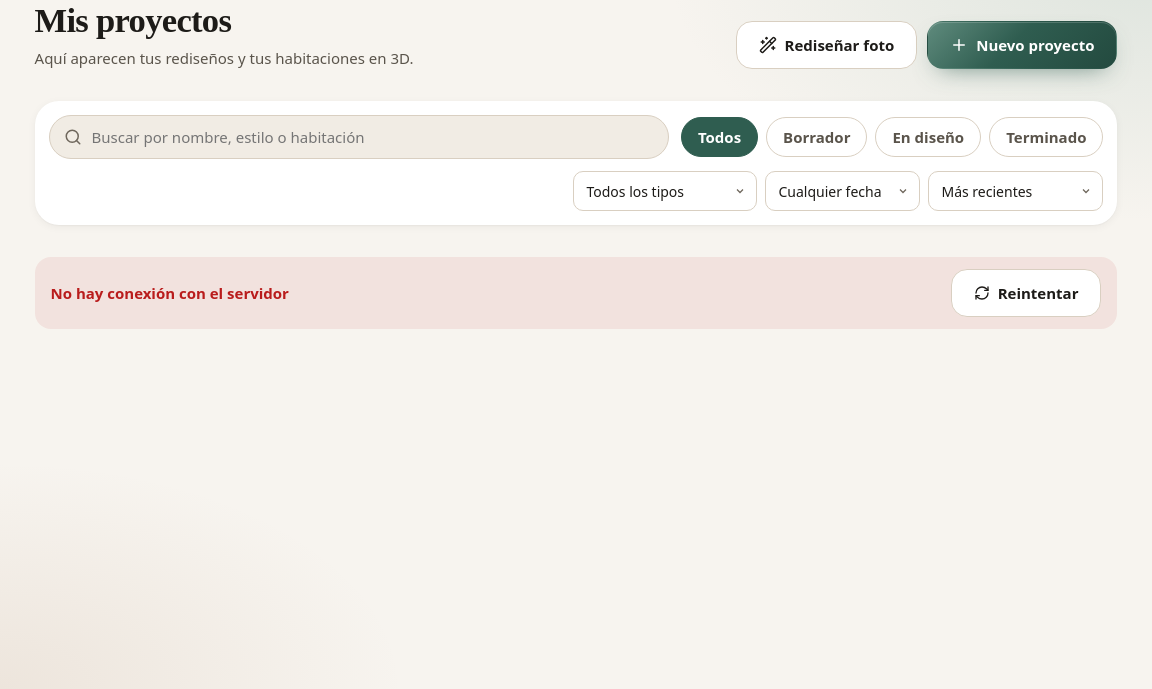
Test: Projects page › shows the error and lets the user retry
expect the message shows "No hay conexión con el servidor": met, box [50,283,289,303]
Click the button "Reintentar": (1026, 293) [951,269,1101,317]
(page scrolled)
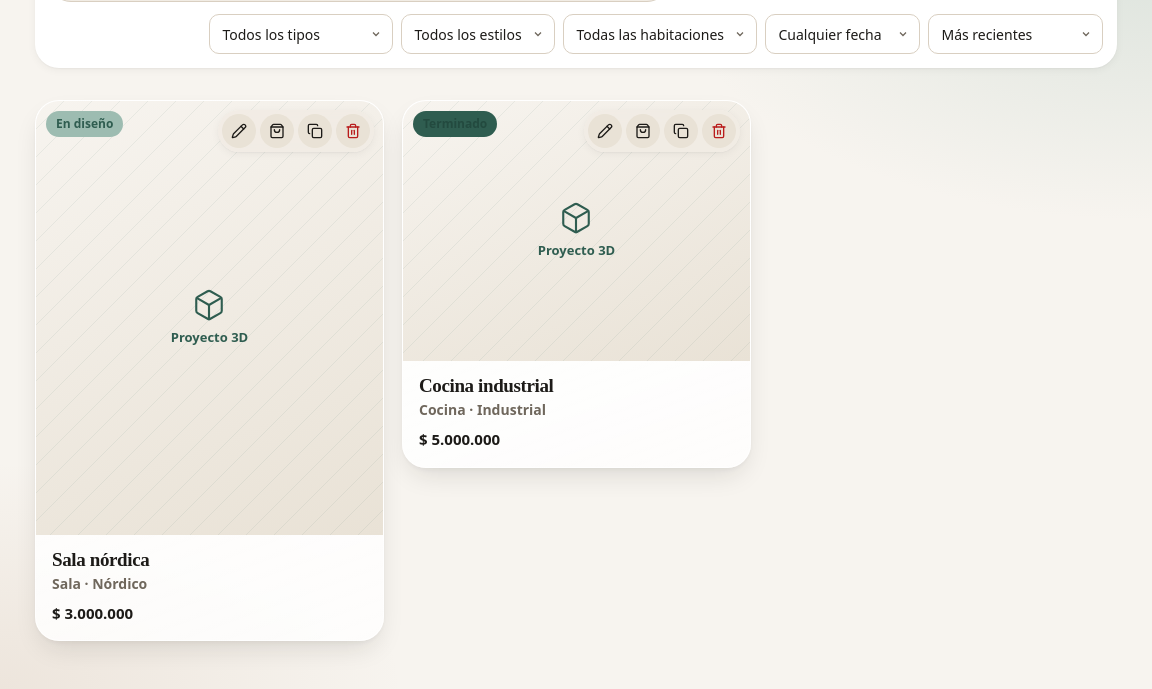
expect the heading "Sala nórdica" is shown: met, box [52,549,149,570]
